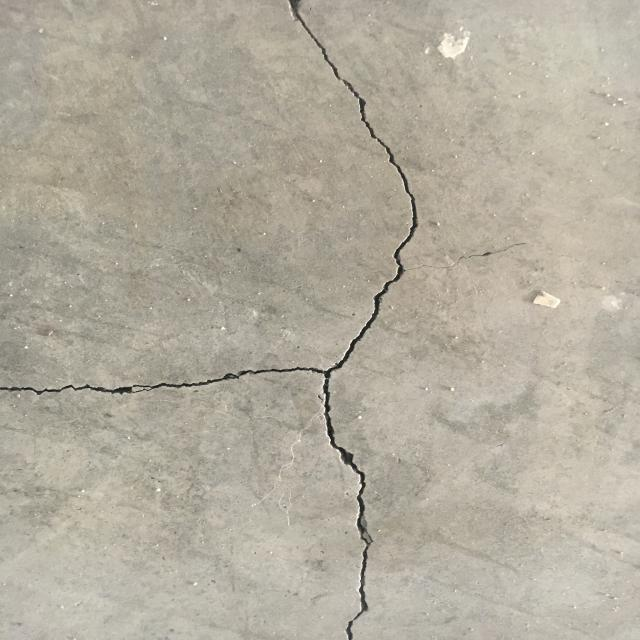Rachadura: (0, 0, 418, 640)
